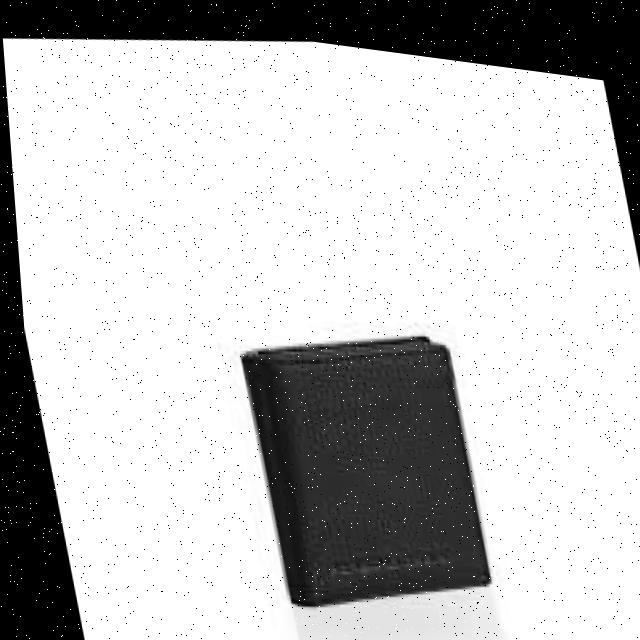cuzdan: (212, 283, 538, 640)
